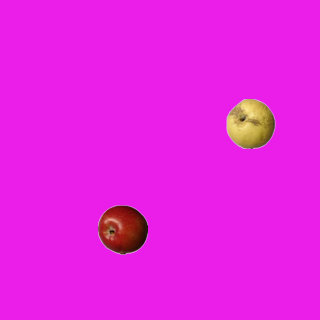Apple Braeburn: (97, 204, 147, 254)
Apple Golden 1: (225, 98, 275, 148)
